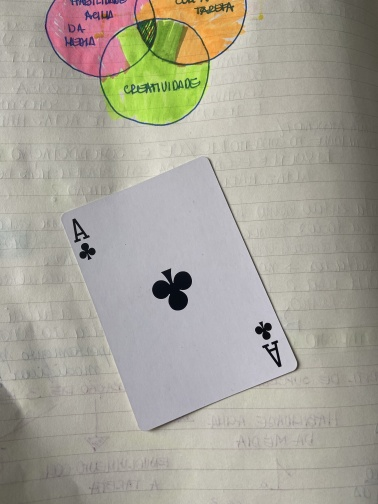ace: (59, 156, 300, 432)
